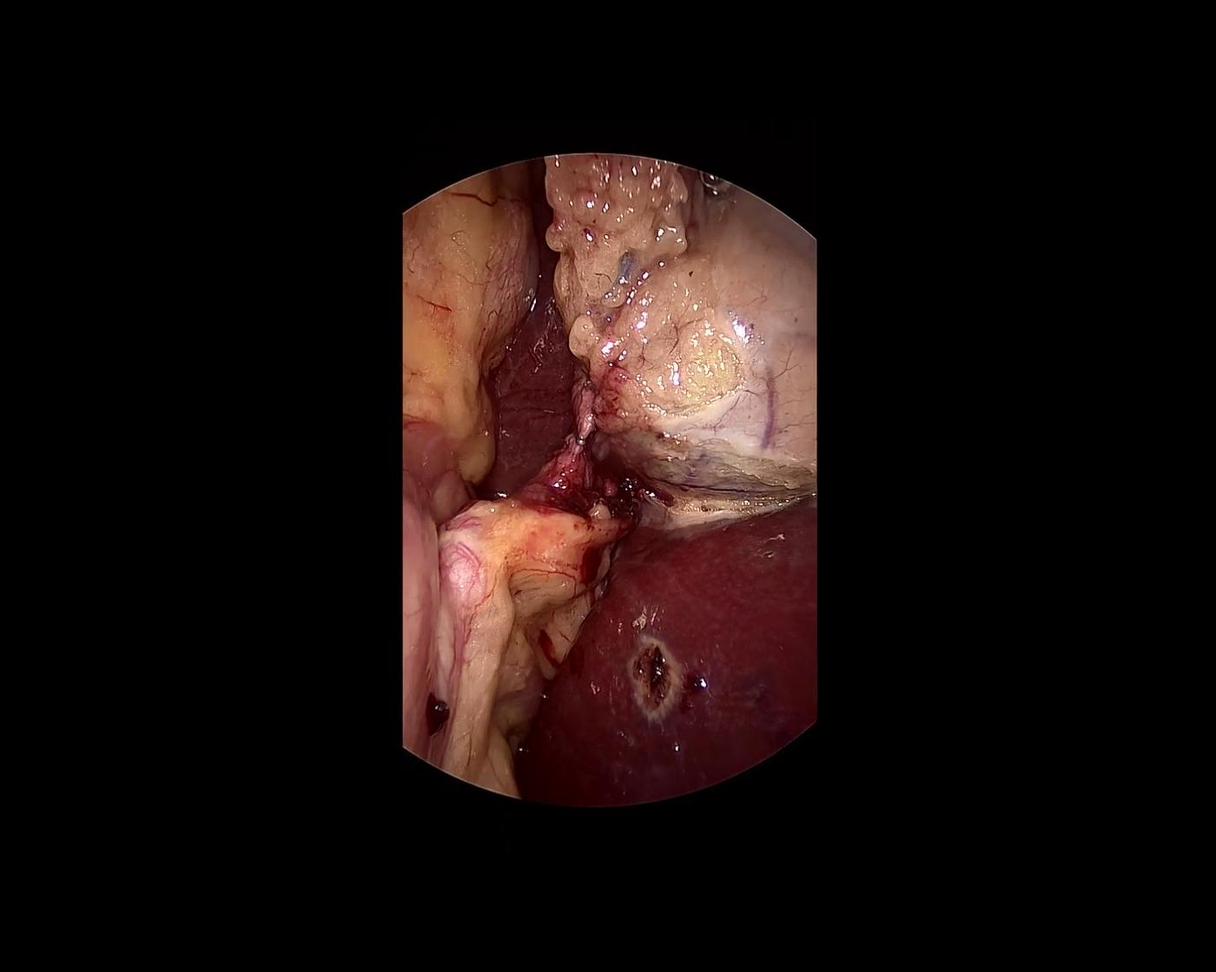Gallbladder: (541, 158, 815, 505)
Liver: (510, 499, 816, 809), (482, 288, 589, 499)
